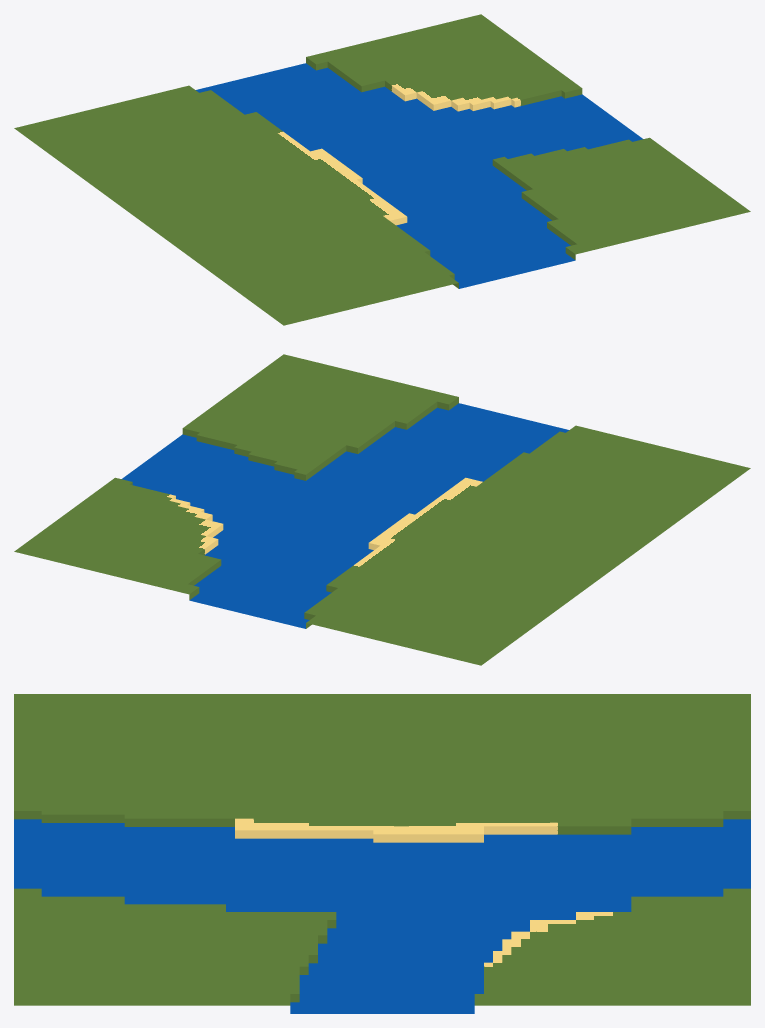
The model's file is LLLLR926(2).glb.
The picture shows the model from 3 angles, top to bottom: view 1: azimuth 30°, elevation 25°; view 2: azimuth 150°, elevation 25°; view 3: azimuth 270°, elevation 25°; orthographic projection. The views are drawn at different scales.
Visible parts, largest first — view 1: model_0.039; view 2: model_0.039; view 3: model_0.039.
Boxes of the visible parts, x1,y1,x2,y2 form: model_0.039: [14, 14, 750, 325]; model_0.039: [14, 354, 750, 665]; model_0.039: [14, 694, 750, 1013].
Size of the model in its own units: 80 by 1 by 80.
1 material, 1 textured.
